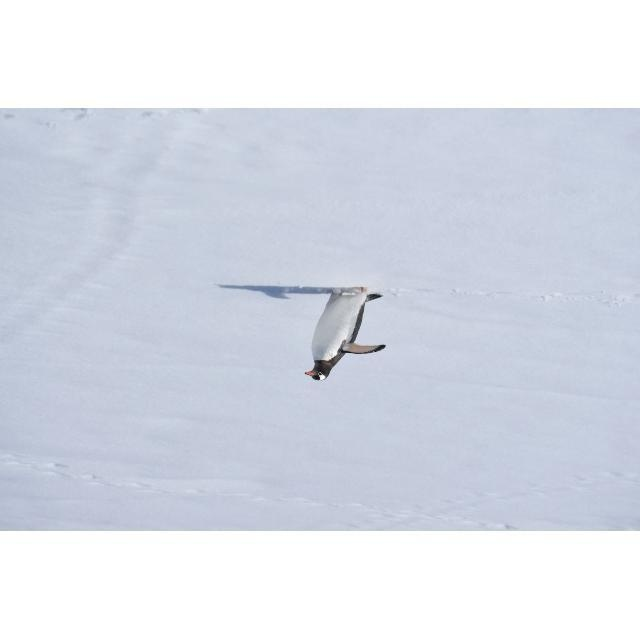penguin: (303, 283, 387, 383)
